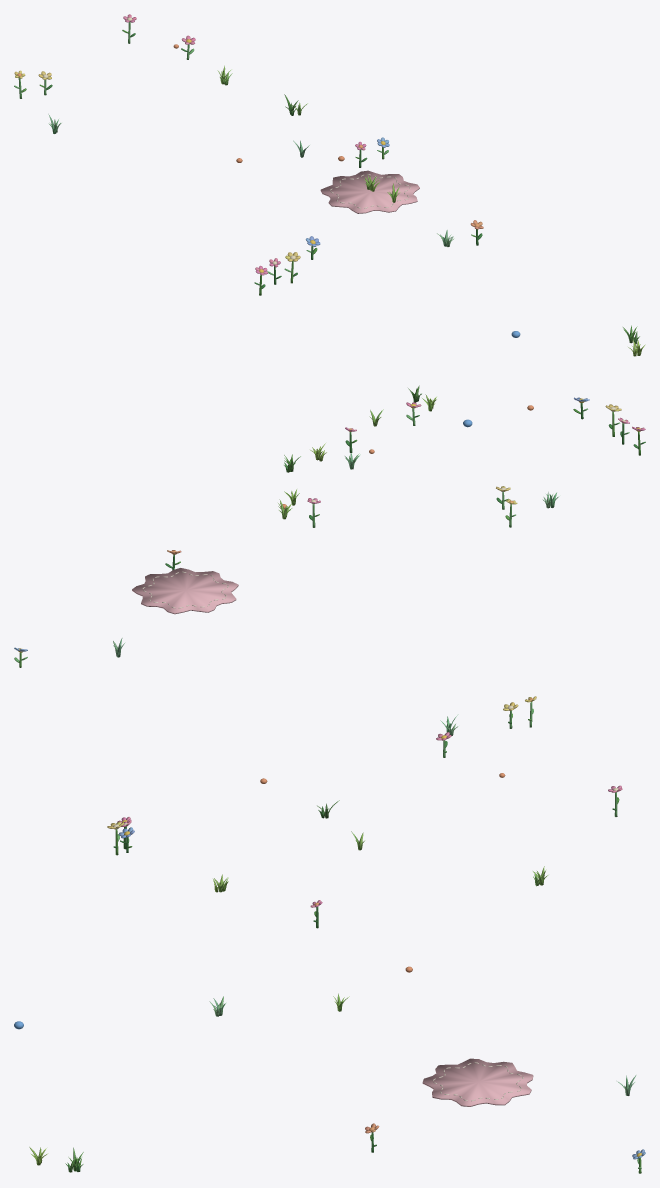
File: W3_FloraRing_11_10.fbx
The picture shows the model from 3 angles, top to bottom: view 1: azimuth 30°, elevation 25°; view 2: azimuth 150°, elevation 25°; view 3: azimuth 270°, elevation 25°; orthographic projection. The views are drawn at different scales.
Visible parts, largest first — view 1: W3_FloraRing_11_10; view 2: W3_FloraRing_11_10; view 3: W3_FloraRing_11_10.
Boxes of the visible parts, <box> form: W3_FloraRing_11_10: <box>14,14,645,356</box>; W3_FloraRing_11_10: <box>14,385,645,667</box>; W3_FloraRing_11_10: <box>14,696,645,1173</box>.
Size of the model in its own units: 3.38 by 1.92 by 3.86.
